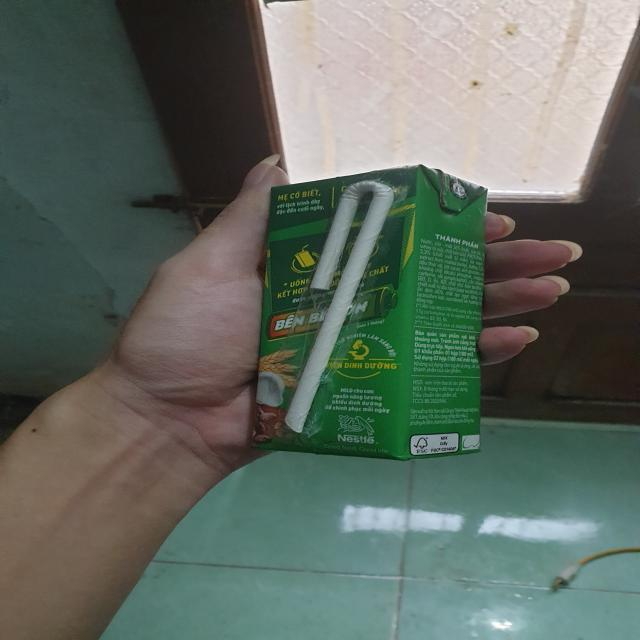Milo: (245, 163, 495, 464)
